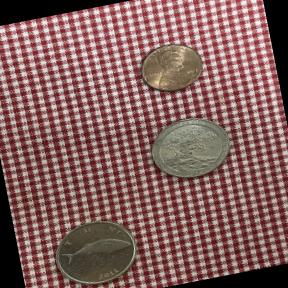coin: (139, 106, 243, 190), (42, 209, 149, 288), (130, 35, 214, 102)
